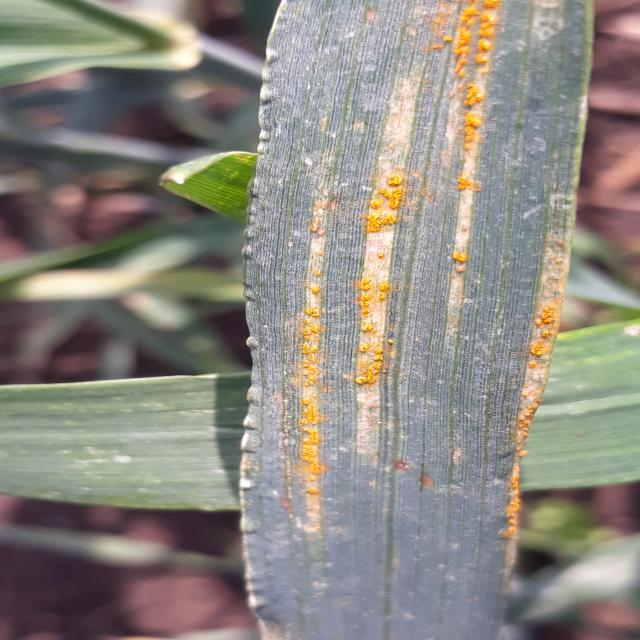yellow_rust: (226, 1, 601, 598)
